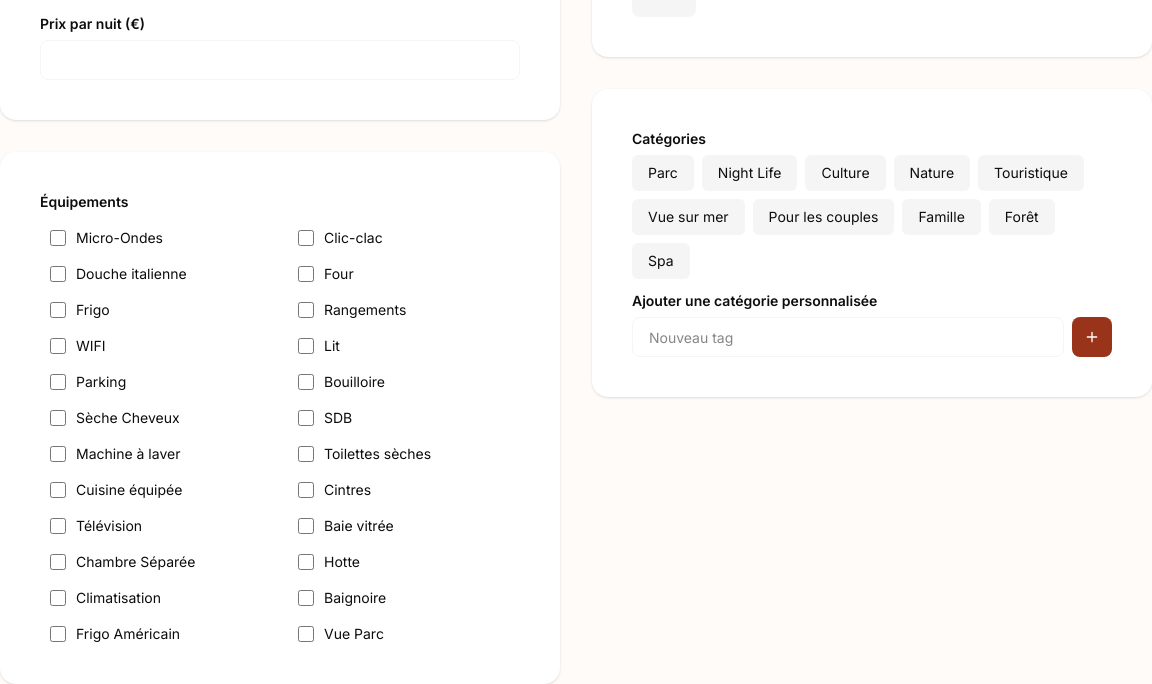
Test: PropertyForm › adds a new custom tag as a pressed chip at the end of the list, with its hidden input
This screenshot has width=1152, height=684.
(page scrolled)
In the field labelled "Ajouter une catégorie personnalisée": (848, 337) [632,317,1064,357], type "Studio"
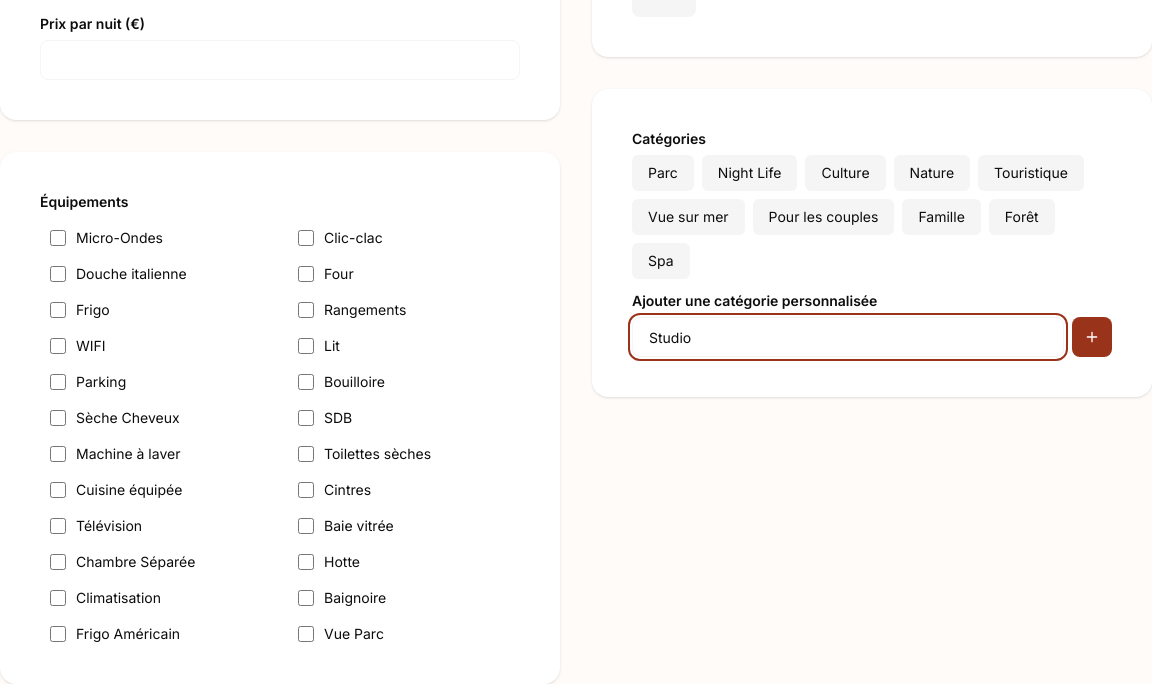
Click the button named "+Ajouter un tag": (1092, 337) [1072,317,1112,357]
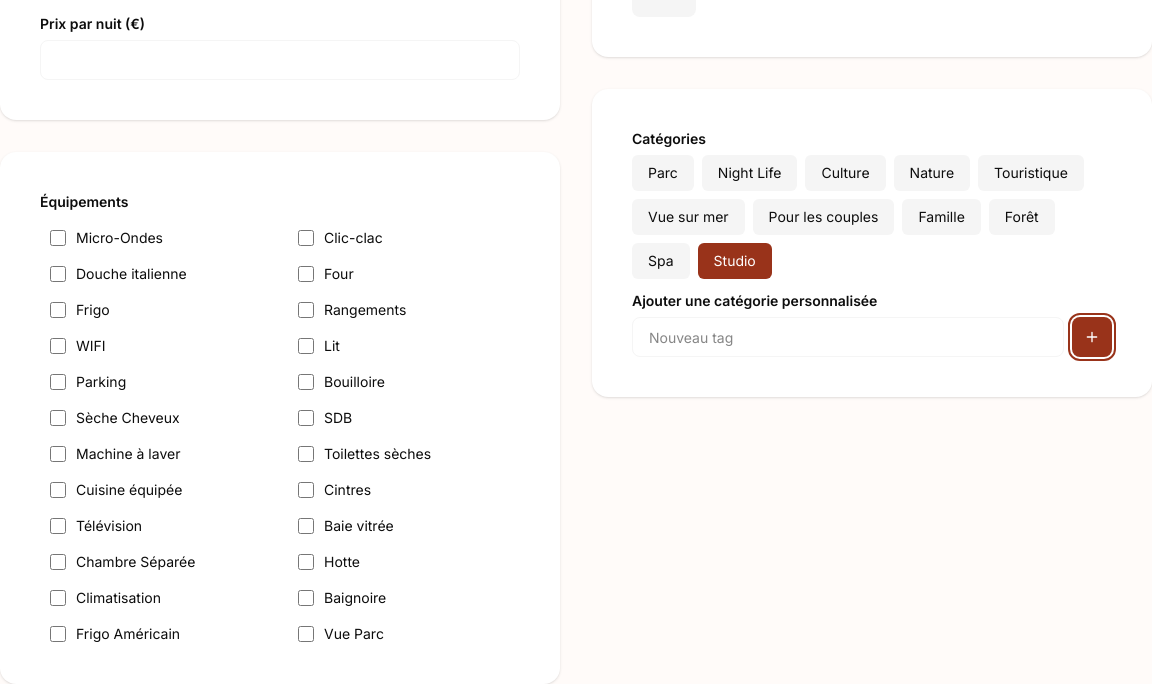
Now the button "Studio" is shown, box [698,243,772,279]
